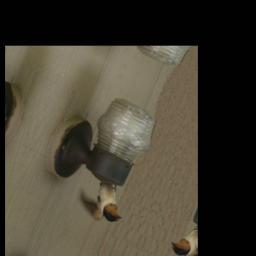Swallow: (72, 171, 133, 232)
